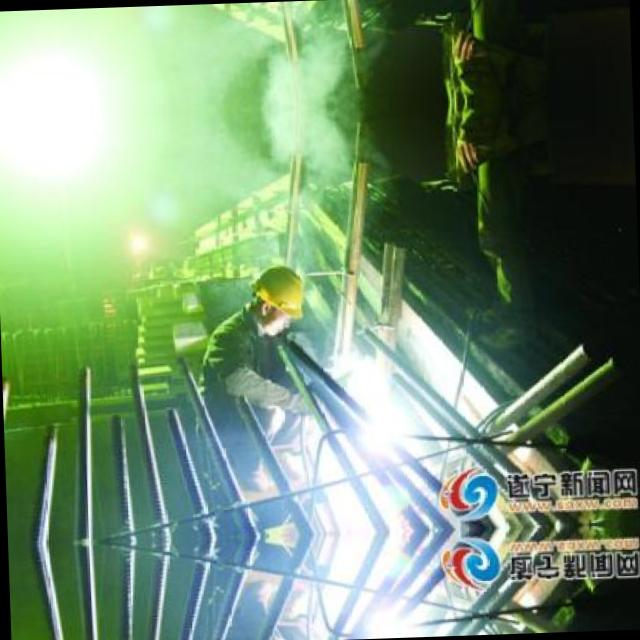helmet: (245, 253, 312, 325)
